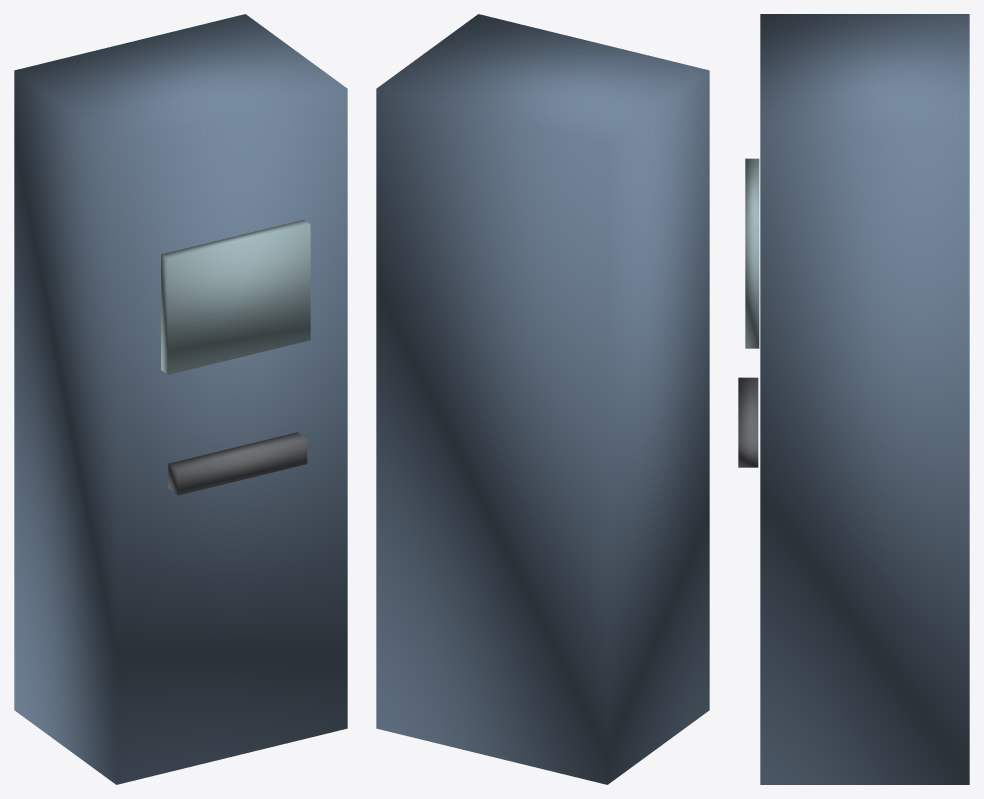
File: information_kiosk__tall.glb
3 views of the same model, side by side, from view 1: azimuth 30°, elevation 25°; view 2: azimuth 150°, elevation 25°; view 3: azimuth 270°, elevation 25° (orthographic). The views are drawn at different scales.
Visible parts, largest first — view 1: world; view 2: world; view 3: world.
Boxes of the visible parts, left/top/right/bottom form: world: left=14, top=14, right=347, bottom=784; world: left=376, top=14, right=709, bottom=784; world: left=738, top=14, right=969, bottom=784.
Size of the model in its own units: 0.68 by 1.8 by 0.575.
